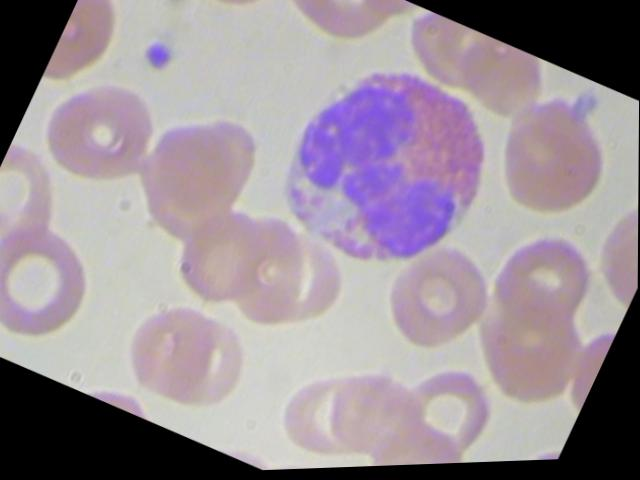Platelets: (136, 28, 182, 80)
Red Blood Cells: (476, 81, 633, 244), (26, 55, 179, 212), (371, 231, 507, 372), (103, 280, 238, 421), (158, 188, 289, 323), (0, 201, 109, 357), (148, 299, 270, 434), (317, 358, 437, 470), (0, 137, 84, 260), (351, 401, 488, 469), (156, 0, 292, 28)
White Blood Cells: (254, 36, 520, 312)
